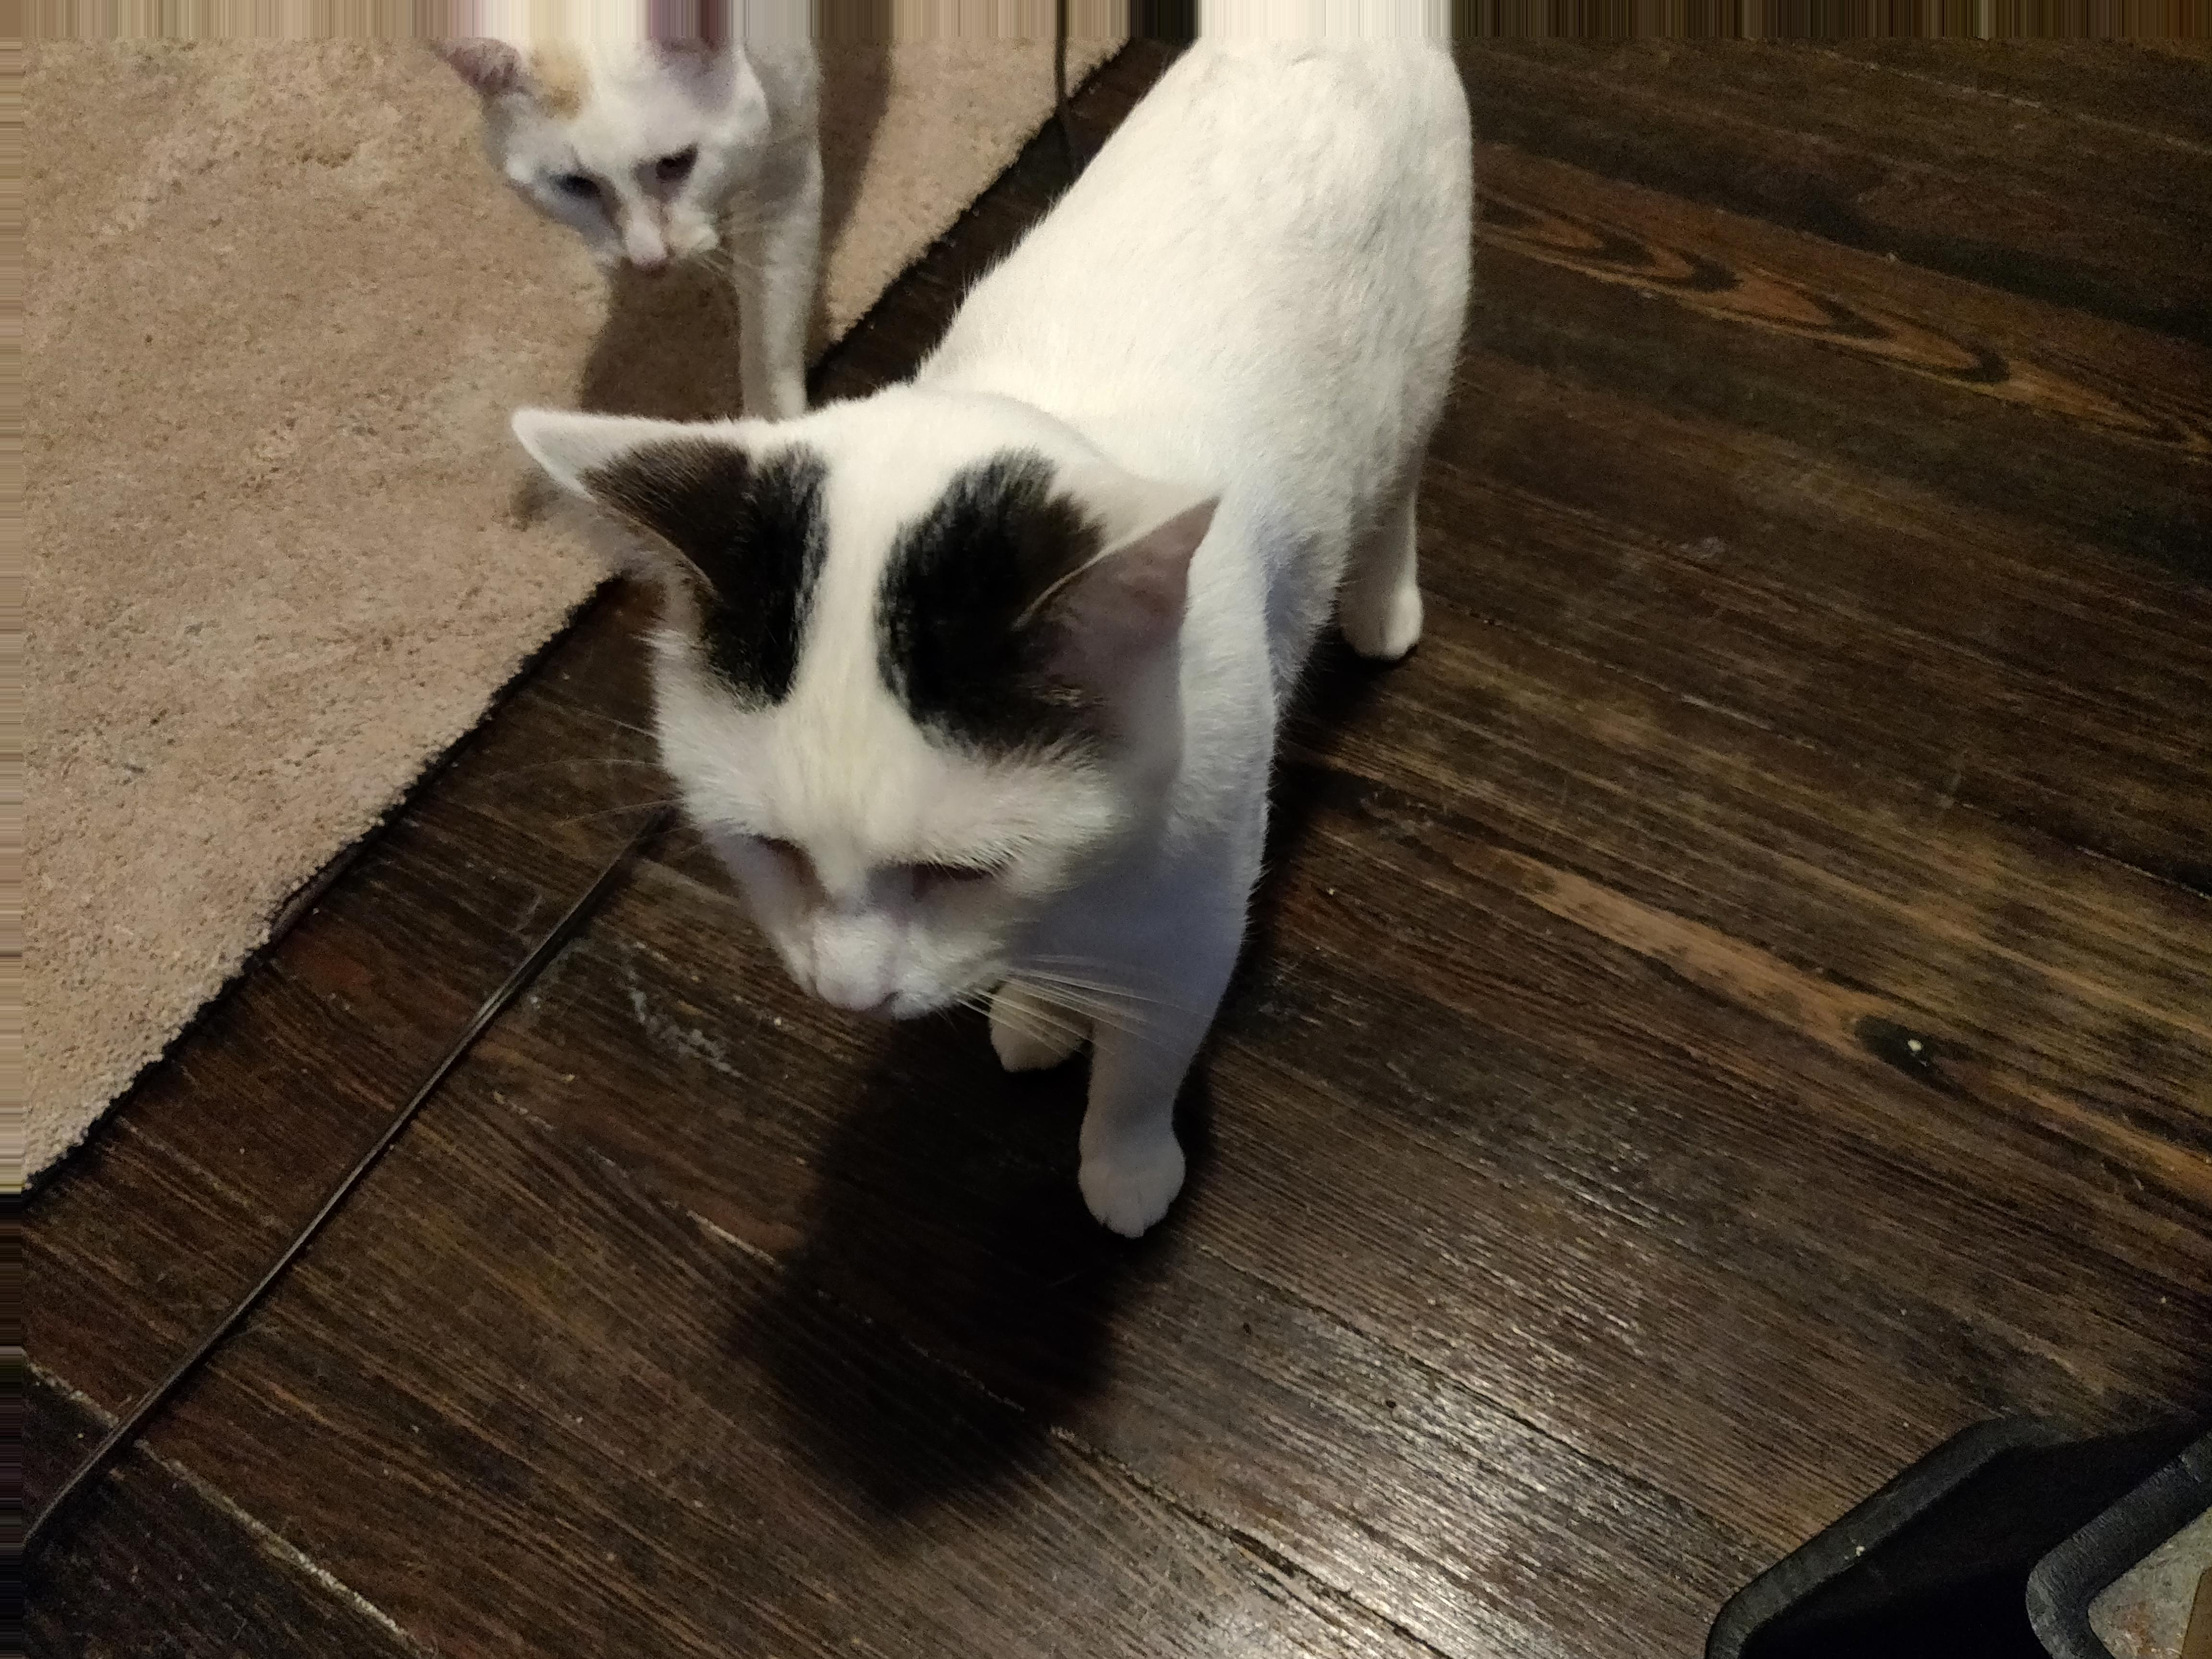cat: (414, 2, 1483, 1215)
